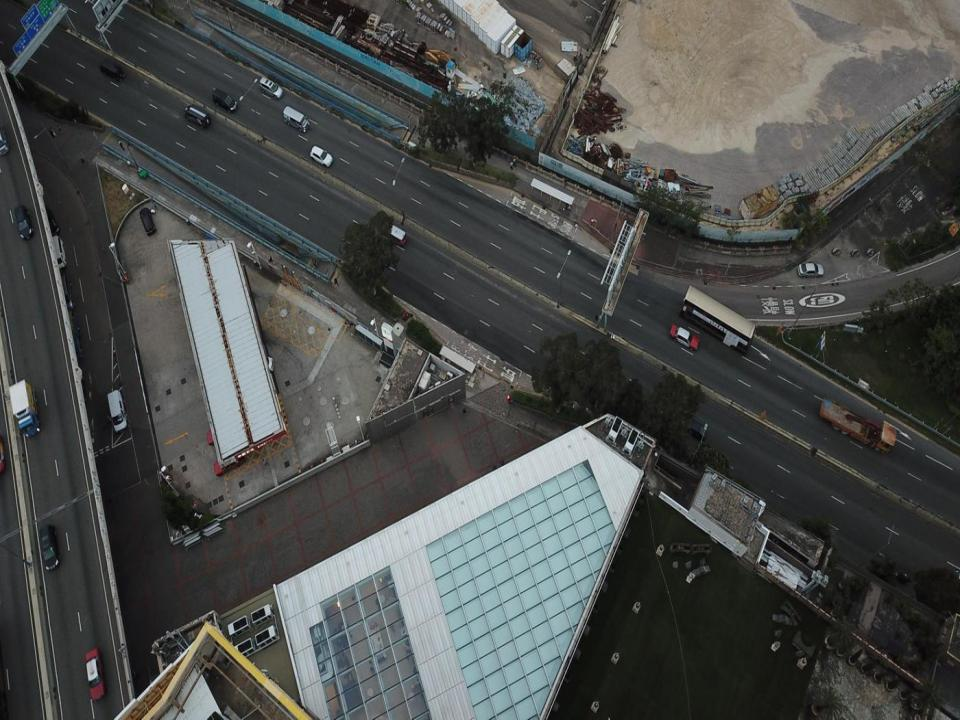car: (84, 648, 105, 702), (34, 206, 62, 244), (38, 525, 60, 571), (668, 322, 701, 352), (680, 411, 710, 442), (107, 391, 128, 434), (213, 452, 248, 477), (50, 278, 75, 312), (12, 202, 32, 243), (381, 219, 406, 248), (212, 87, 237, 115), (206, 428, 238, 448), (182, 104, 210, 126), (139, 205, 157, 239), (257, 76, 283, 99), (95, 56, 122, 78), (797, 260, 825, 280), (309, 144, 332, 168)
truck: (818, 393, 898, 455), (7, 379, 42, 440)
van: (281, 102, 309, 132), (45, 237, 67, 271)
